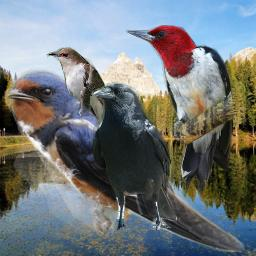Crow: (93, 82, 177, 230)
Cuckoo: (46, 47, 114, 174)
Swallow: (4, 69, 245, 252)
Woodpecker: (126, 24, 233, 195)
